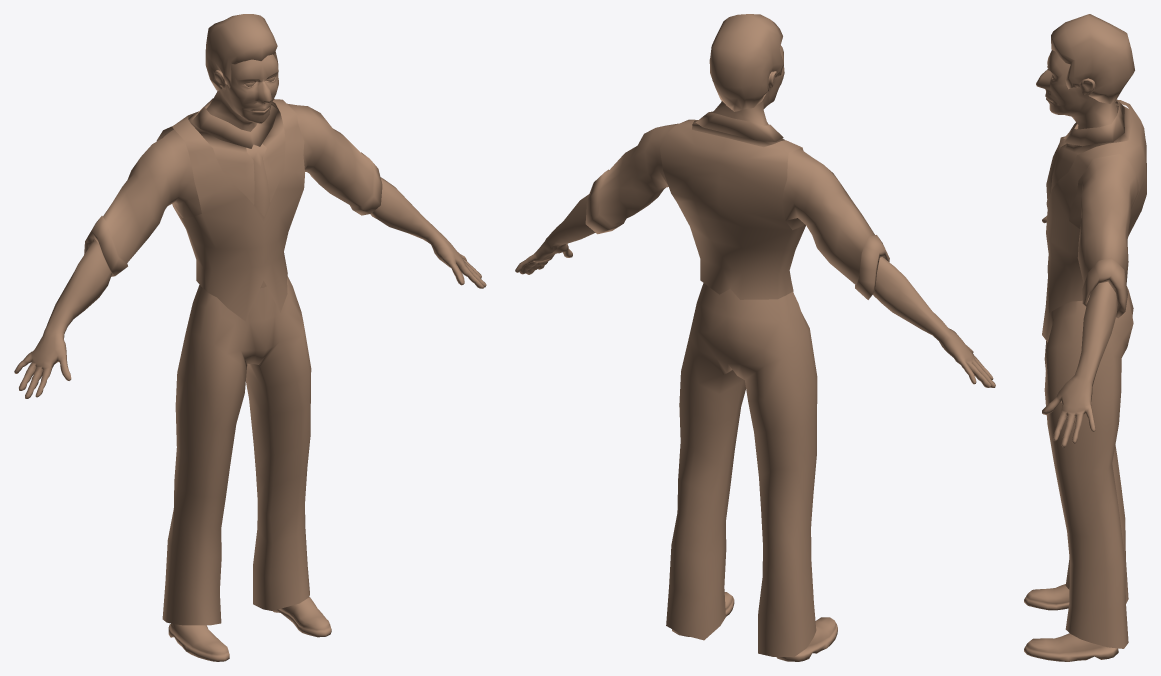
Rendered from Guard_02.FBX.
3 views of the same model, side by side, from view 1: azimuth 30°, elevation 25°; view 2: azimuth 150°, elevation 25°; view 3: azimuth 270°, elevation 25° (orthographic).
Parts seen in each view (by area): view 1: Hose, Hemd, Guard001, Weste, Haare, Krawatte; view 2: Hose, Weste, Hemd, Guard001, Haare; view 3: Hose, Guard001, Hemd, Weste, Haare, Krawatte.
Part boxes in pixels (bbox=[...]): Hose: bbox=[162, 276, 311, 625]; Hemd: bbox=[84, 98, 382, 288]; Guard001: bbox=[14, 54, 486, 661]; Weste: bbox=[156, 99, 304, 321]; Haare: bbox=[205, 14, 278, 90]; Krawatte: bbox=[246, 144, 270, 287]; Hose: bbox=[666, 283, 817, 656]; Weste: bbox=[660, 119, 805, 299]; Hemd: bbox=[585, 111, 889, 299]; Guard001: bbox=[515, 45, 995, 661]; Haare: bbox=[709, 14, 783, 111]; Hose: bbox=[1042, 279, 1133, 648]; Guard001: bbox=[1024, 50, 1118, 661]; Hemd: bbox=[1051, 99, 1138, 318]; Weste: bbox=[1046, 100, 1146, 312]; Haare: bbox=[1051, 14, 1134, 103]; Krawatte: bbox=[1046, 136, 1066, 200].
Bounding box in the file's own units: 137 × 173 × 31.45.
